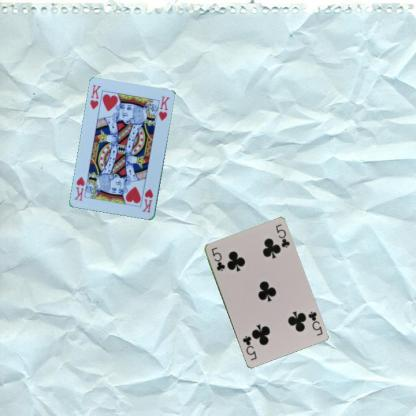5c: (305, 308, 324, 337), (208, 245, 226, 272)
Kh: (140, 186, 154, 214), (88, 83, 102, 111)
